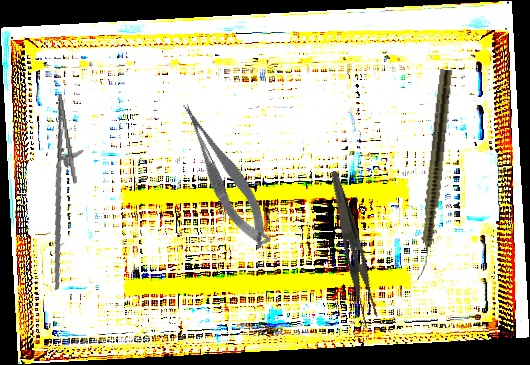Dressing Forceps: (314, 170, 387, 329)
Handpiece: (414, 68, 454, 282)
Micro Scissor: (176, 92, 276, 257)
Needle Holder: (33, 92, 99, 290)
